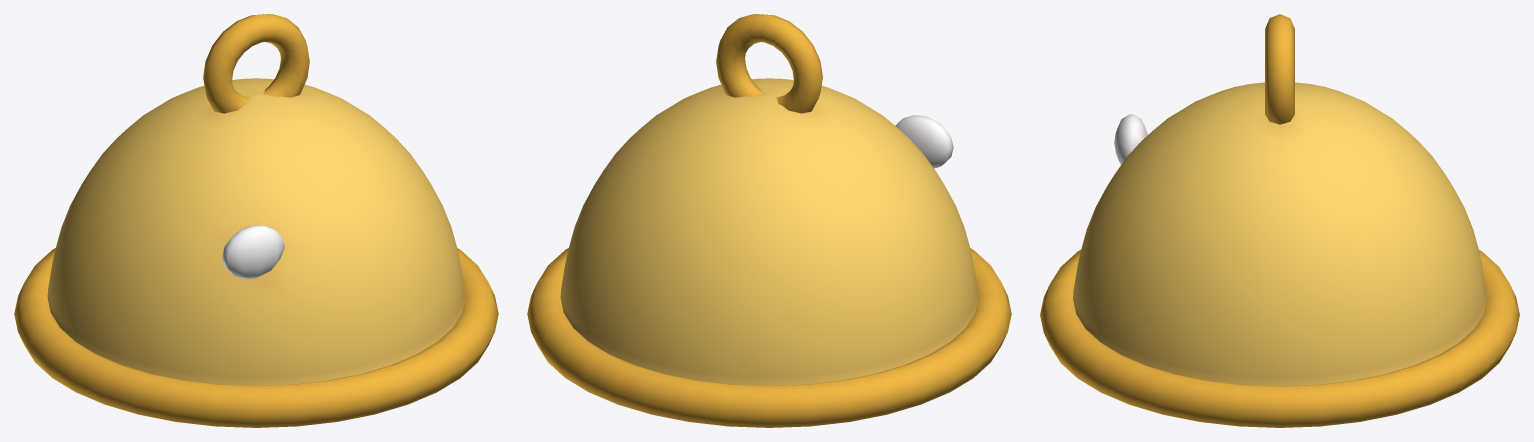
Rendered from bell.glb.
3 views of the same model, side by side, from view 1: azimuth 30°, elevation 25°; view 2: azimuth 150°, elevation 25°; view 3: azimuth 270°, elevation 25° (orthographic).
Parts seen in each view (by area): view 1: body, cf0b43a, shine; view 2: body, cf0b43a, shine; view 3: body, cf0b43a, shine.
Part boxes in pixels (x1,y1,x2,y2): body: (47,78,465,385); cf0b43a: (14,14,498,427); shine: (222,225,284,278); body: (560,78,978,385); cf0b43a: (527,14,1011,427); shine: (895,115,953,168); body: (1073,82,1486,386); cf0b43a: (1040,14,1519,427); shine: (1114,114,1147,164).
Size of the model in its own units: 0.97 by 0.83 by 0.97.
